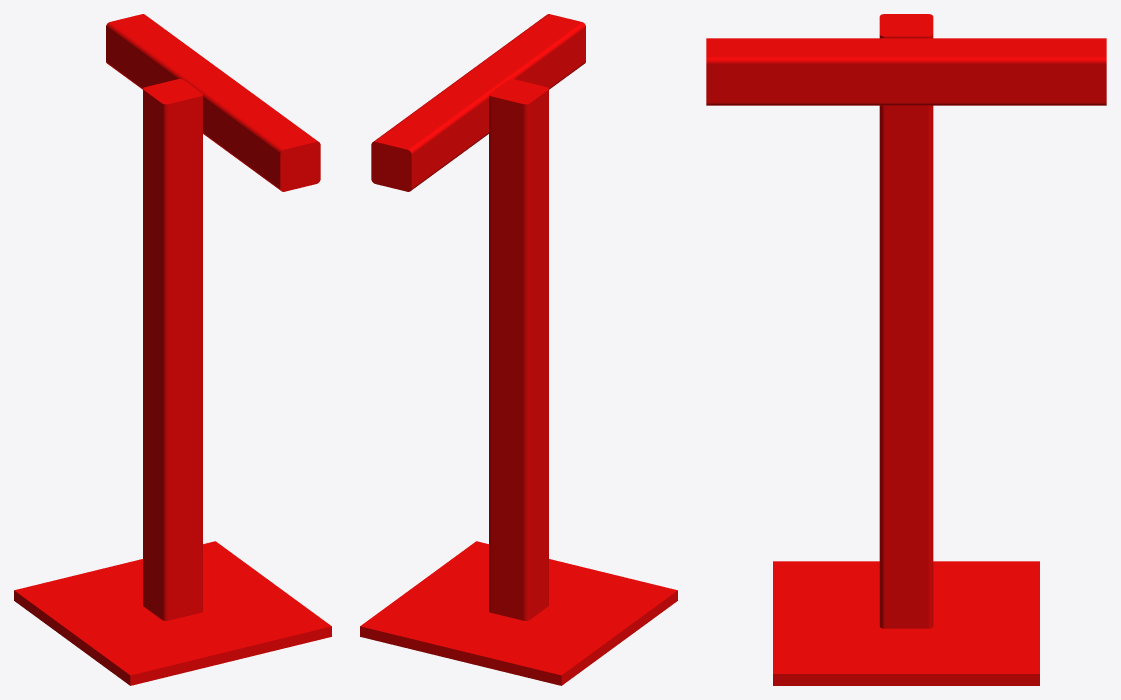
The model's file is ati_9120_stand.dae.
3 renders of one model, left to right at view 1: azimuth 30°, elevation 25°; view 2: azimuth 150°, elevation 25°; view 3: azimuth 270°, elevation 25°, orthographic. The views are drawn at different scales.
Parts seen in each view (by area): view 1: node0; view 2: node0; view 3: node0.
Part boxes in pixels (box(x1,y1,x2,y2)): node0: box(14, 14, 331, 685); node0: box(360, 14, 677, 685); node0: box(706, 14, 1106, 685).
Bounding box in the file's own units: 0.5 × 0.75 × 1.25.
